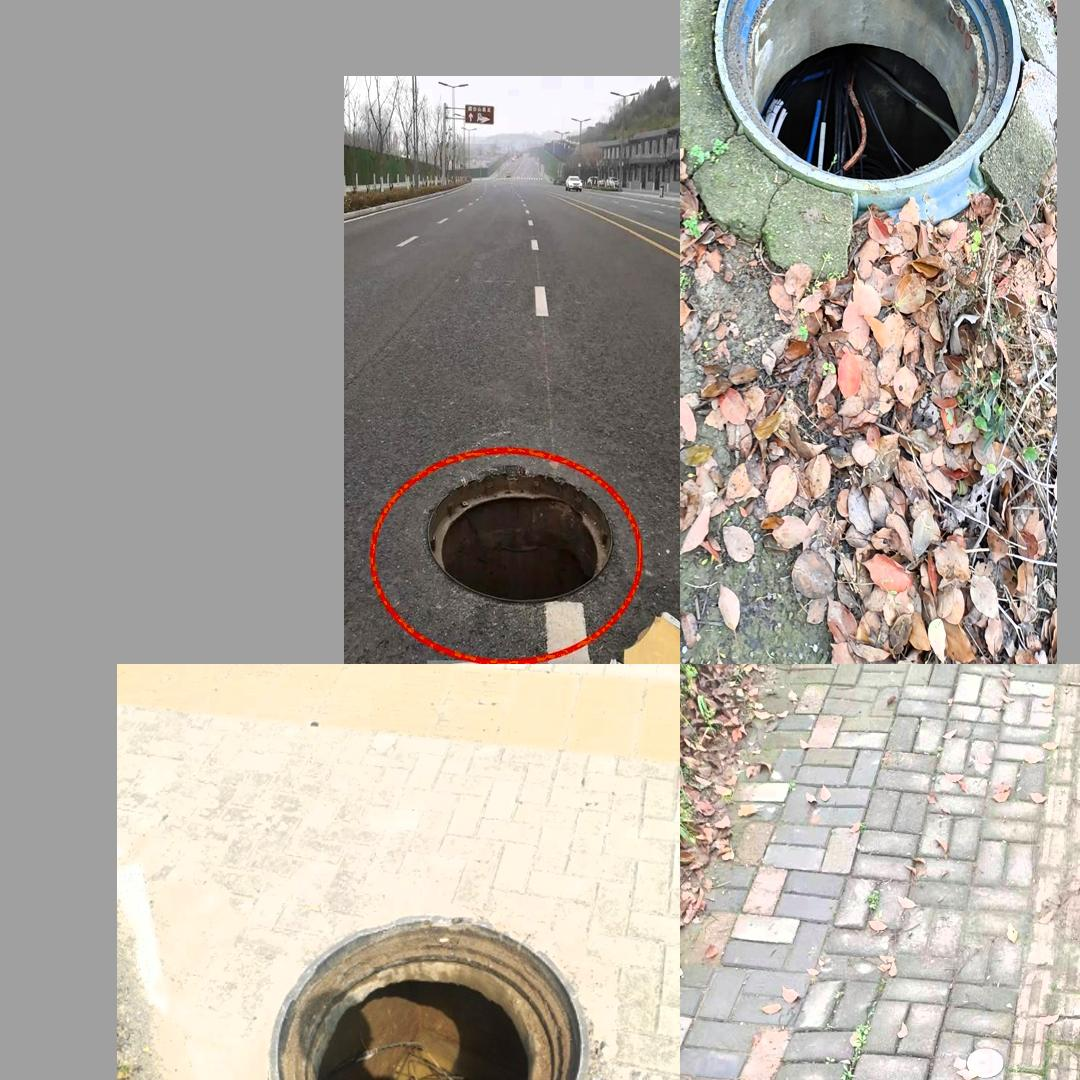lose: (237, 896, 600, 1080), (713, 0, 1022, 187), (423, 468, 616, 595)
